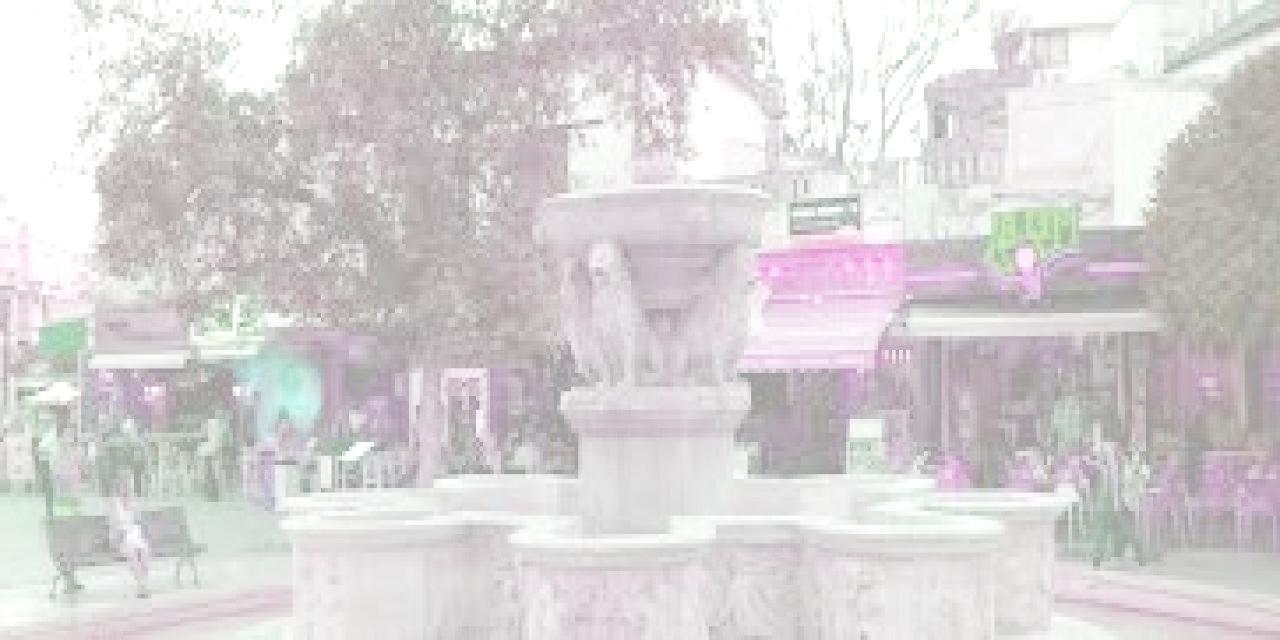Liontaria: (280, 183, 1074, 640)
